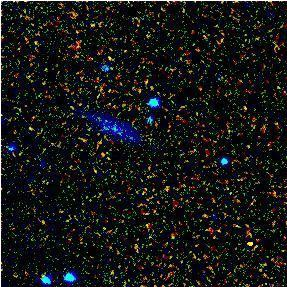star: (235, 229, 265, 259)
